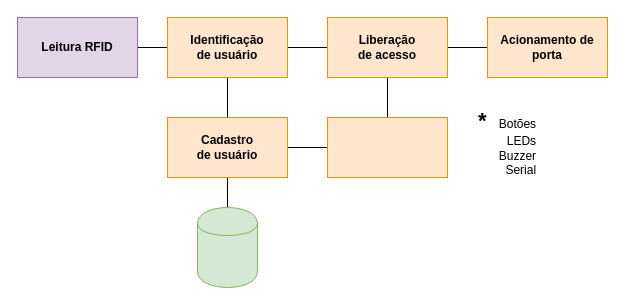
Image size: 625x305. Some labels were removed from this diagram. The centre of each missing label's shape, as x and y in pixels:
Interface * de Usuário: the point at 387,147
Memória: the point at 227,247
